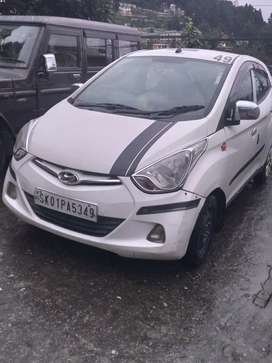SK01PA5349: (34, 187, 96, 222)
